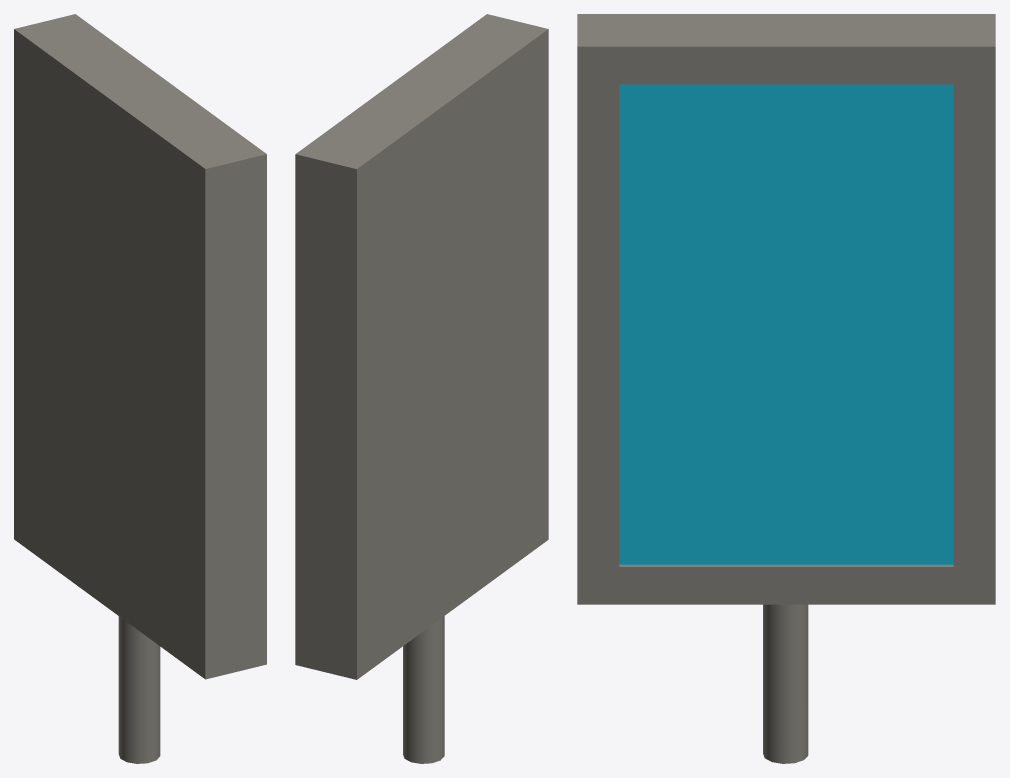
Rendered from CM_VerticalScanner.fbx.
The picture shows the model from 3 angles, left to right: view 1: azimuth 30°, elevation 25°; view 2: azimuth 150°, elevation 25°; view 3: azimuth 270°, elevation 25°; orthographic projection. The views are drawn at different scales.
Parts seen in each view (by area): view 1: Frame.001, Cylinder; view 2: Frame.001, Cylinder; view 3: Scanner, Frame.001, Cylinder.
Part boxes in pixels (x1,y1,x2,y2): Frame.001: (14,14,266,679); Cylinder: (118,616,160,763); Frame.001: (295,14,548,679); Cylinder: (403,616,444,763); Scanner: (619,84,953,564); Frame.001: (577,14,995,604); Cylinder: (763,604,808,763).
Bounding box in the file's own units: 2.72 × 28.02 × 14.66.
